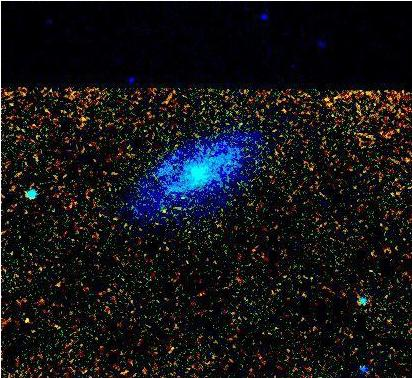star: (148, 194, 178, 224)
